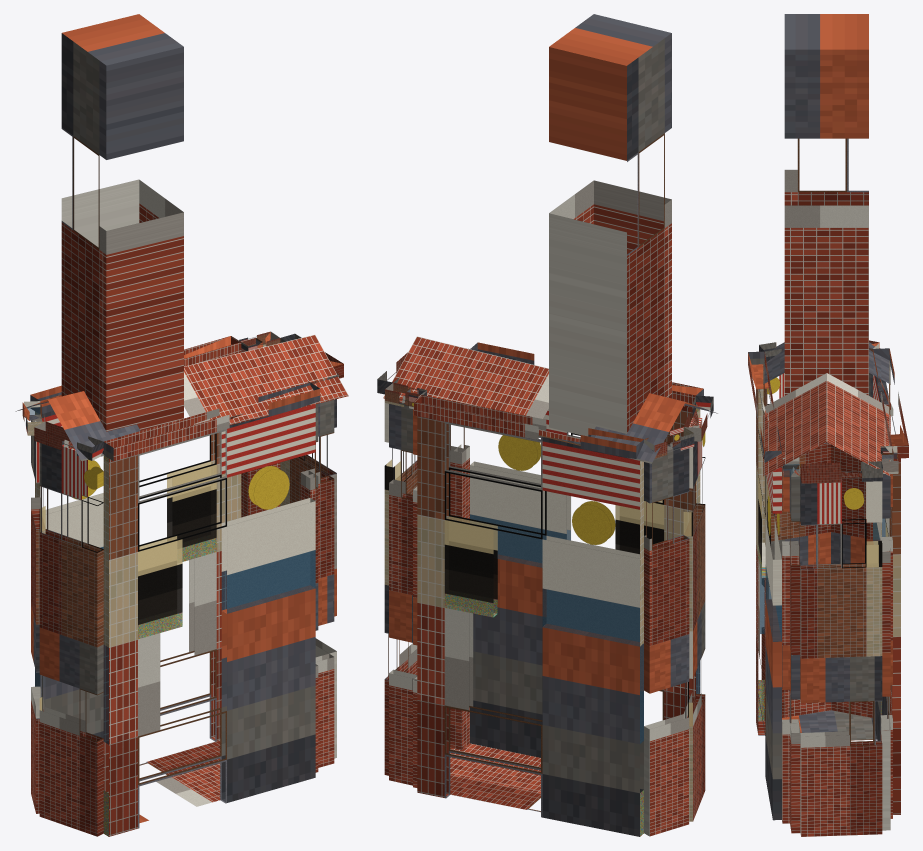
3 renders of one model, left to right at view 1: azimuth 30°, elevation 25°; view 2: azimuth 150°, elevation 25°; view 3: azimuth 270°, elevation 25°, orthographic. The views are drawn at different scales.
Visible parts, largest first — view 1: 397364880__wall_8_xb, 397364880__chimney_0_xb, 397364880__wall_0_xb, 397364880__wall_2_xb, 397364880_roof_-1_xb, 397364880__wall_8_xf, 397364880__wall_6_xb, 397364880__cornice_8, 397364880__wall_2_xf, 397364880__wall_1_xb, 397364880__base, 397364880__wall_5_xb (+3 smaller); view 2: 397364880__wall_2_xb, 397364880__chimney_0_xb, 397364880__wall_8_xb, 397364880__wall_1_xb, 397364880_roof_1_xb, 397364880__wall_2_xf, 397364880__wall_4_xb, 397364880__wall_0_xb, 397364880__base, 397364880__cornice_2, 397364880__wall_8_xf, 397364880__wall_5_xb (+6 smaller); view 3: 397364880__chimney_0_xb, 397364880__wall_5_xb, 397364880__wall_8_xb, 397364880_roof_-1_xb, 397364880_roof_1_xb, 397364880__wall_2_xb, 397364880__wall_0_xb, 397364880__wall_1_xb, 397364880__wall_6_xb, 397364880__wall_4_xb, 397364880__wall_7_xb, 397364880__base (+7 smaller).
Boxes of the visible parts, <box> form: 397364880__wall_8_xb: <box>103,404,315,836</box>; 397364880__chimney_0_xb: <box>61,14,183,431</box>; 397364880__wall_0_xb: <box>39,441,103,836</box>; 397364880__wall_2_xb: <box>35,410,241,741</box>; 397364880_roof_-1_xb: <box>48,334,348,460</box>; 397364880__wall_8_xf: <box>104,456,315,836</box>; 397364880__wall_6_xb: <box>306,400,334,767</box>; 397364880__cornice_8: <box>103,382,320,461</box>; 397364880__wall_2_xf: <box>35,462,216,686</box>; 397364880__wall_1_xb: <box>31,415,45,813</box>; 397364880__base: <box>139,740,220,823</box>; 397364880__wall_5_xb: <box>280,399,336,758</box>; 397364880__wall_2_xb: <box>417,416,643,836</box>; 397364880__chimney_0_xb: <box>549,14,671,436</box>; 397364880__wall_8_xb: <box>470,406,700,757</box>; 397364880__wall_1_xb: <box>644,442,689,836</box>; 397364880_roof_1_xb: <box>383,336,685,463</box>; 397364880__wall_2_xf: <box>445,506,643,835</box>; 397364880__wall_4_xb: <box>389,402,417,785</box>; 397364880__wall_0_xb: <box>683,417,705,821</box>; 397364880__base: <box>450,743,540,812</box>; 397364880__cornice_2: <box>414,395,643,458</box>; 397364880__wall_8_xf: <box>470,409,699,693</box>; 397364880__wall_5_xb: <box>384,399,417,775</box>; 397364880__chimney_0_xb: <box>784,14,868,395</box>; 397364880__wall_5_xb: <box>800,477,882,836</box>; 397364880__wall_8_xb: <box>756,365,781,820</box>; 397364880_roof_-1_xb: <box>763,342,826,476</box>; 397364880_roof_1_xb: <box>827,342,890,476</box>; 397364880__wall_2_xb: <box>873,375,900,814</box>; 397364880__wall_0_xb: <box>761,373,830,717</box>; 397364880__wall_1_xb: <box>831,373,872,717</box>; 397364880__wall_6_xb: <box>789,470,800,833</box>; 397364880__wall_4_xb: <box>880,474,890,830</box>; 397364880__wall_7_xb: <box>782,466,798,823</box>; 397364880__base: <box>782,710,876,740</box>.
Size of the model in its own units: 0.5755 by 1.4 by 0.2865.
Materials: 1 (1 with a texture image).
